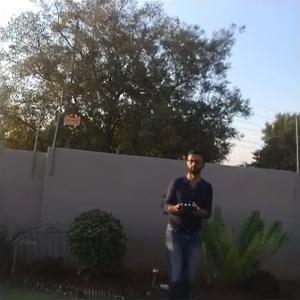follow: (153, 142, 214, 298)
